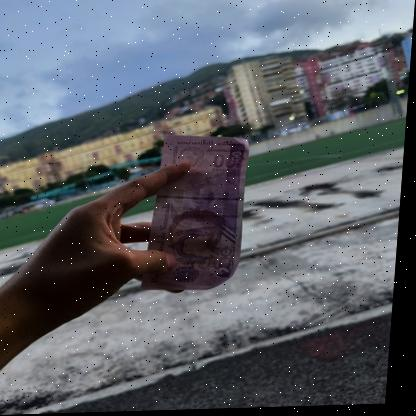vef_back: (144, 134, 254, 293)
